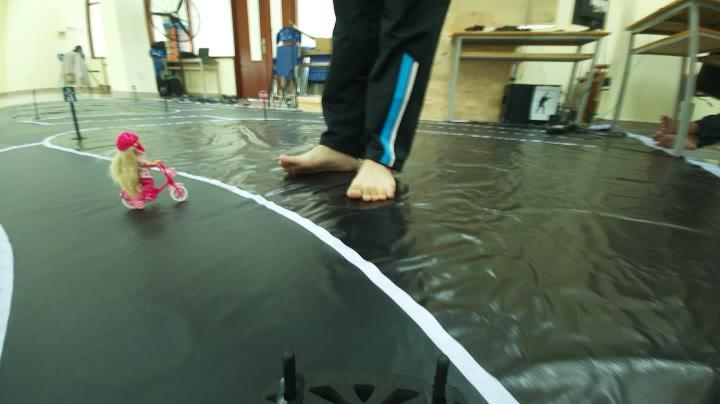pedestrian: (98, 132, 202, 208)
